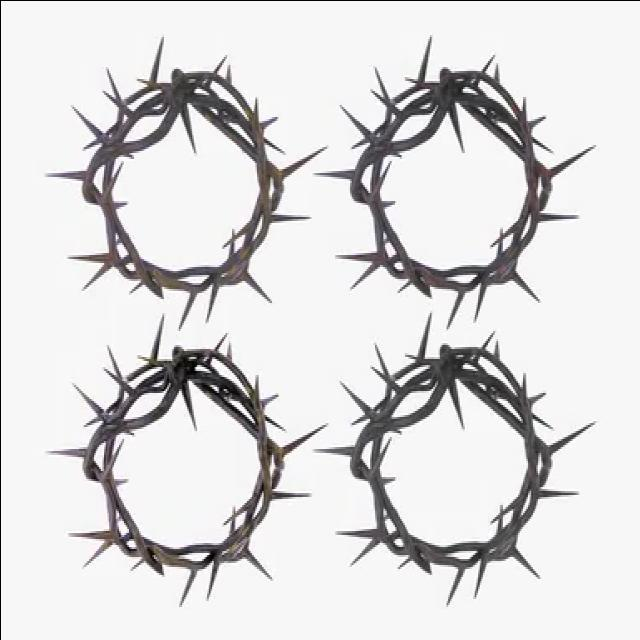crown: (55, 330, 291, 594), (332, 339, 566, 596)
